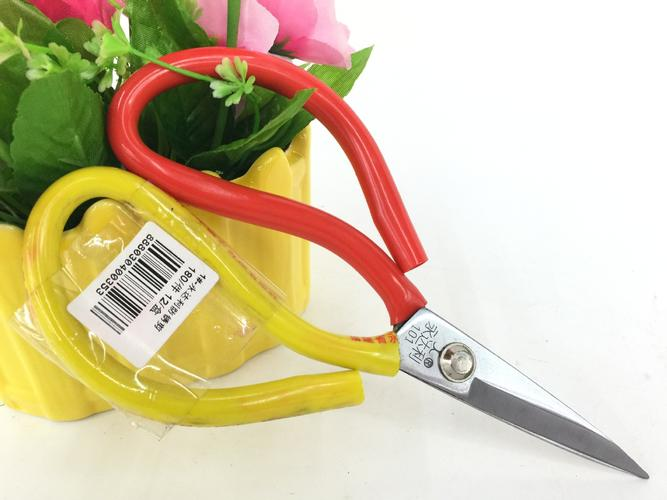scissor: (18, 45, 649, 482)
